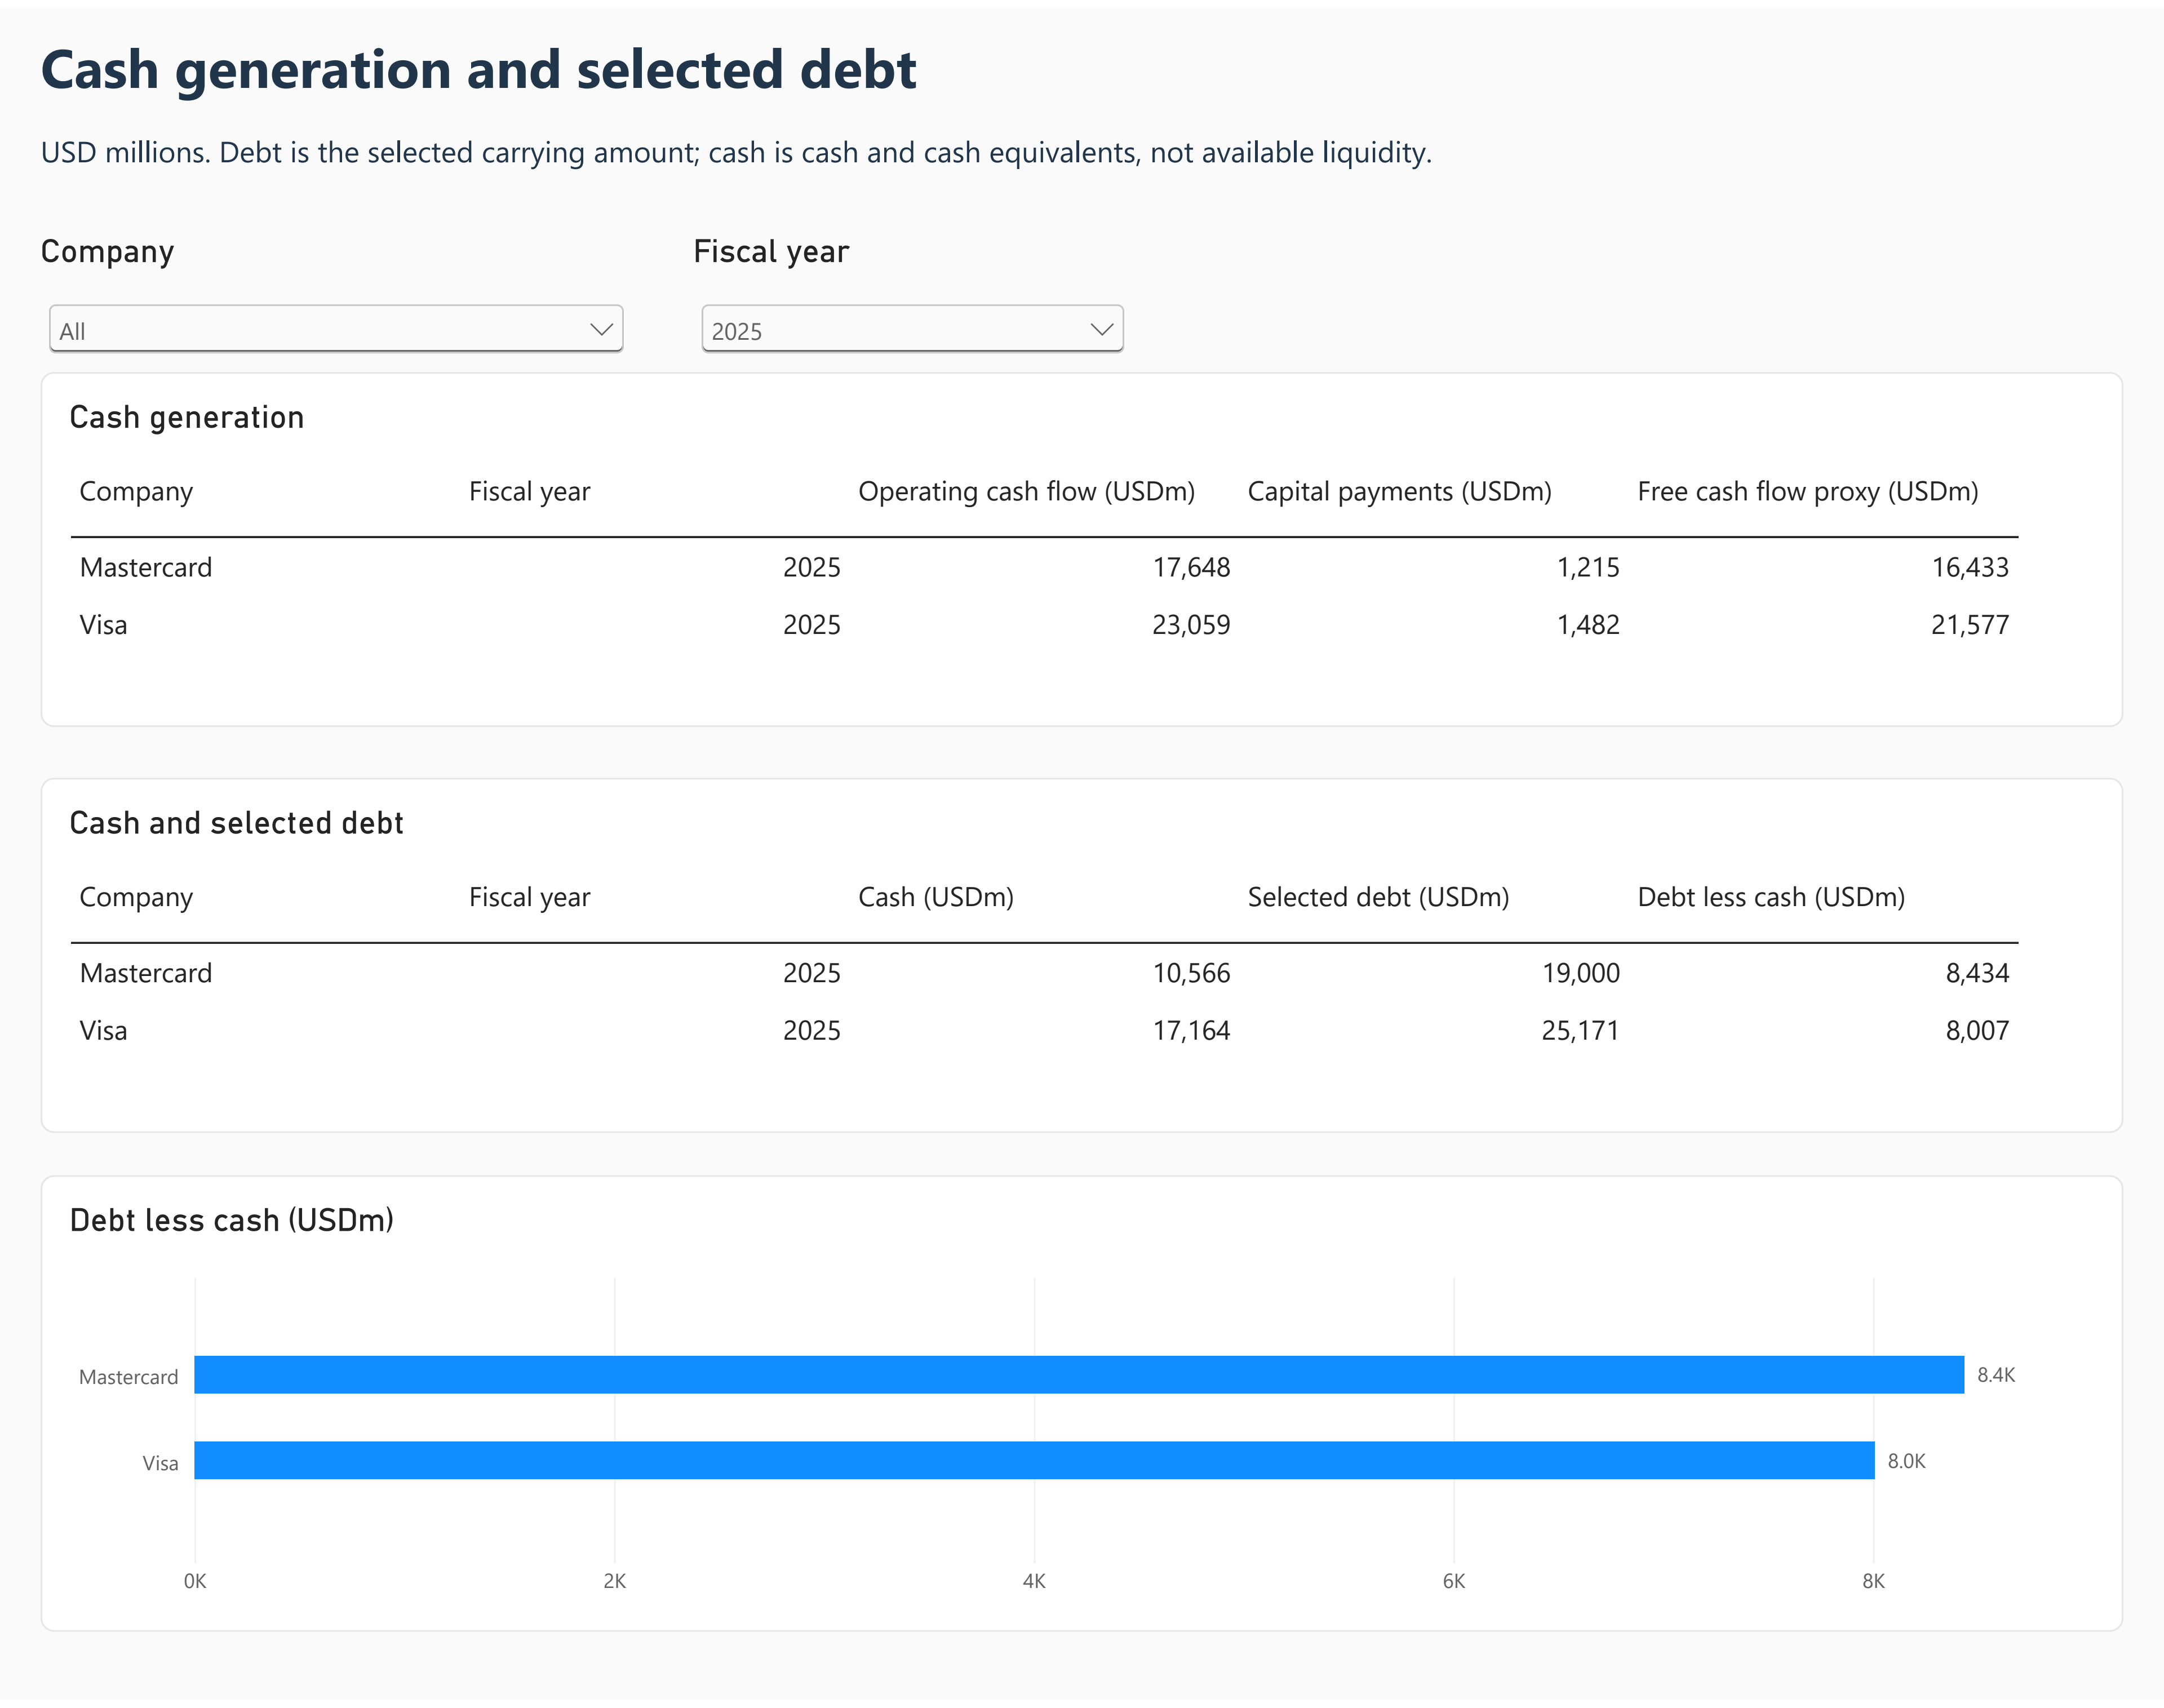

What the dashboard file says about the page in this screenshot:
{"tool":"powerbi","page":{"name":"03 Cash and Debt","canvas":[1280,1000],"ordinal":2},"visuals":[{"type":"tableEx","title":"Cash generation","fields":{"Values":["Companies.CompanyName","FiscalYears.FiscalYear","Financials.Operating Cash Flow (USDm)","Financials.Defined Capital Payments (USDm)","Financials.FCF Proxy (USDm)"]},"box":[24,215,1232,210],"z":0},{"type":"slicer","title":"Company","fields":{"Values":["Companies.CompanyName"]},"box":[24,132,350,80],"z":3000},{"type":"slicer","title":"Fiscal year","fields":{"Values":["FiscalYears.FiscalYear"]},"box":[410,132,260,80],"z":4000},{"type":"tableEx","title":"Cash and selected debt","fields":{"Values":["Companies.CompanyName","FiscalYears.FiscalYear","Financials.Cash (USDm)","Financials.Selected Debt (USDm)","Financials.Debt Less Cash (USDm)"]},"box":[24,455,1232,210],"z":4001},{"type":"clusteredBarChart","title":"Debt less cash (USDm)","fields":{"Category":["Companies.CompanyName"],"Y":["Financials.Debt Less Cash (USDm)"]},"box":[24,690,1232,270],"z":4001},{"type":"textbox","box":[24,12,1232,58],"z":8000},{"type":"textbox","box":[24,72,1232,48],"z":8000}]}

Visuals, with their boxes in screenshot pixels (x1, y1, x2, y2), scaled from the page's 1280x1000 canvas onto the 2164x1708 screenshot:
"Cash generation" tableEx: 41 367 2123 726
"Company" slicer: 41 225 632 362
"Fiscal year" slicer: 693 225 1133 362
"Cash and selected debt" tableEx: 41 777 2123 1136
"Debt less cash (USDm)" clusteredBarChart: 41 1178 2123 1640
textbox: 41 20 2123 119
textbox: 41 123 2123 205
